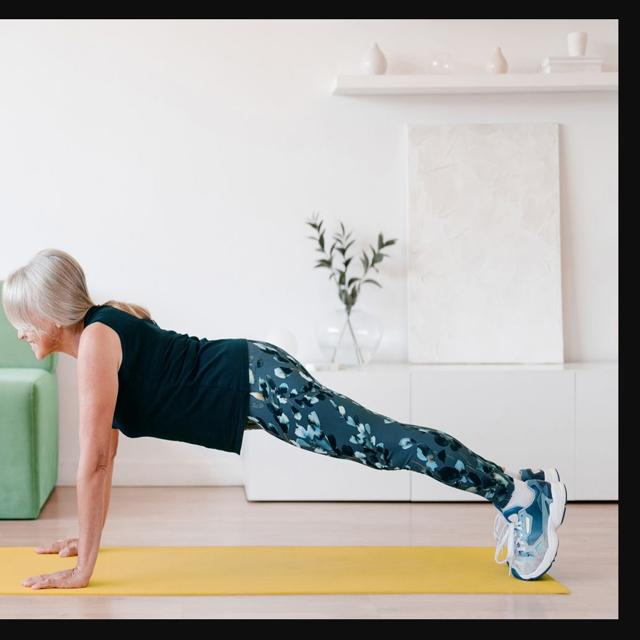Plank_Pose: (4, 247, 582, 595)
